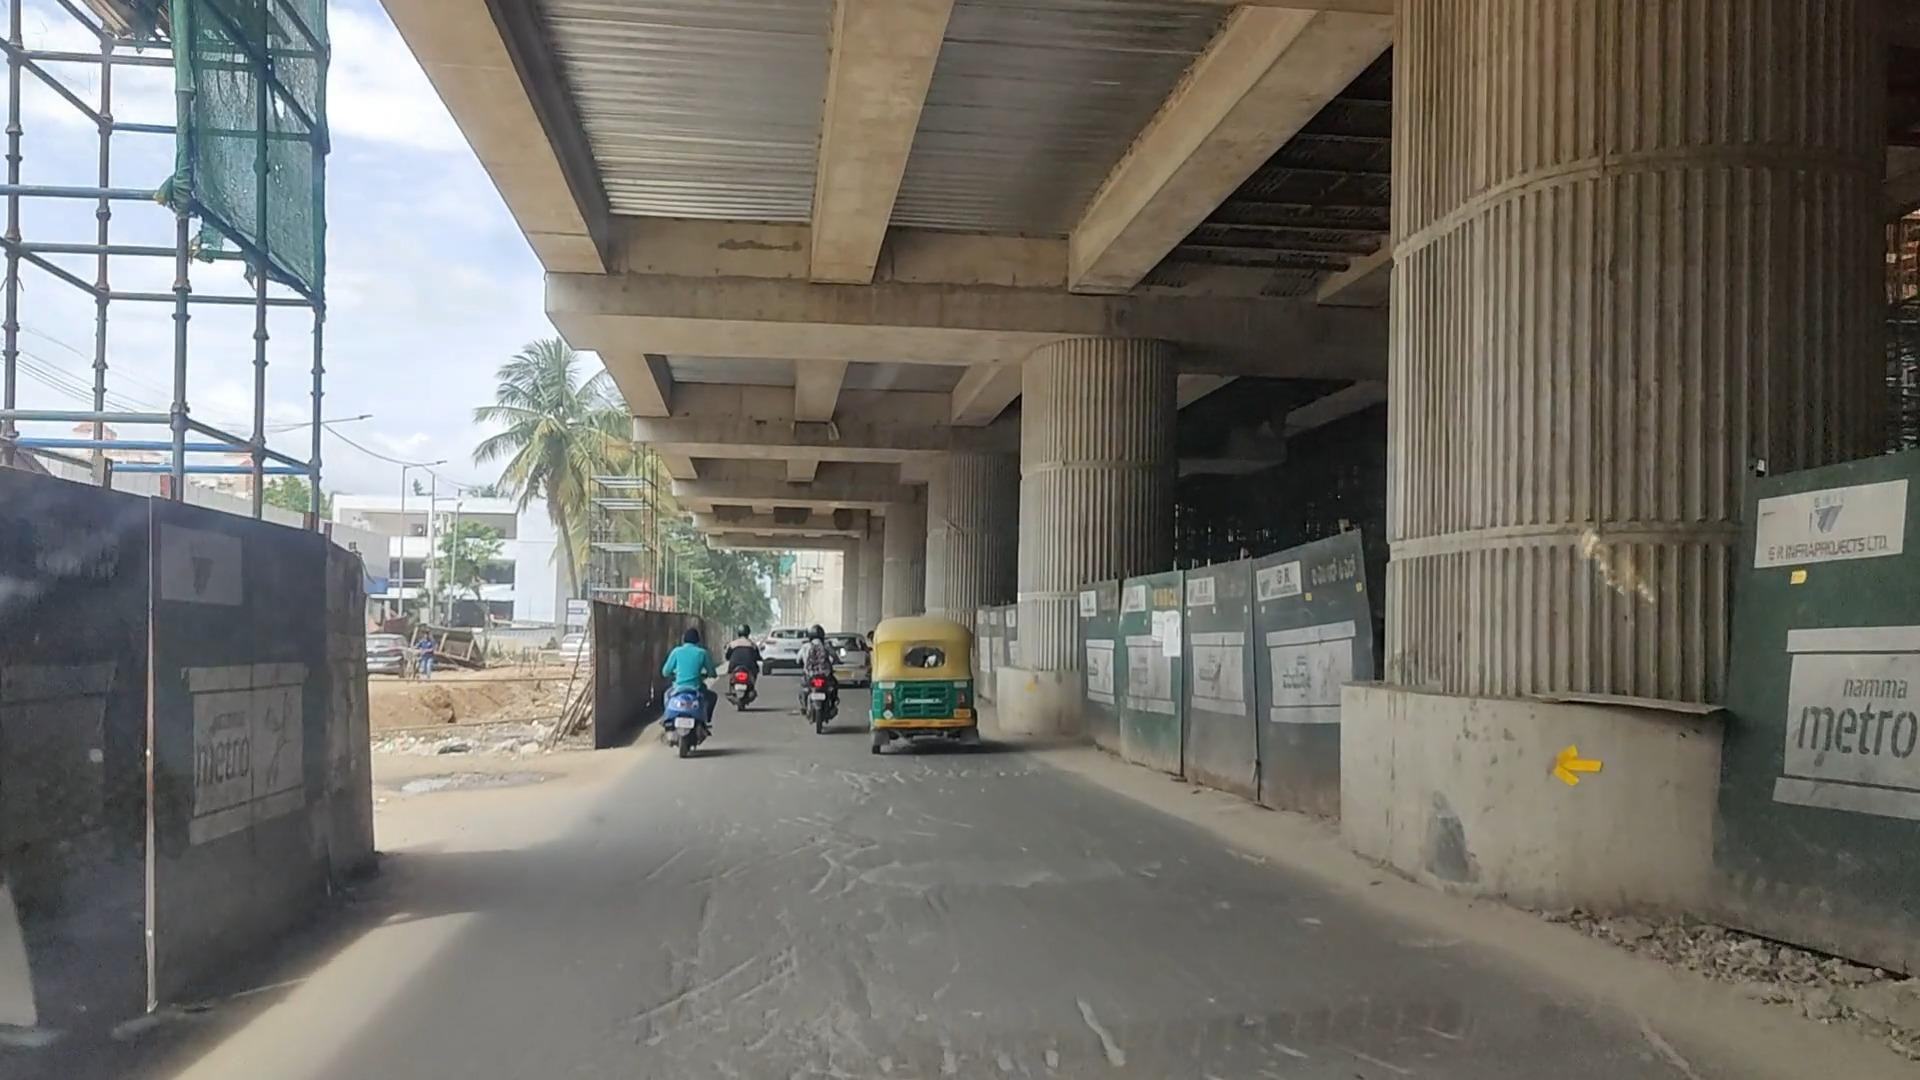LMV: (870, 591, 993, 782), (662, 613, 723, 774), (796, 607, 852, 765)
RoadDamages: (575, 903, 1681, 1072), (704, 771, 1150, 922), (390, 754, 597, 823)
